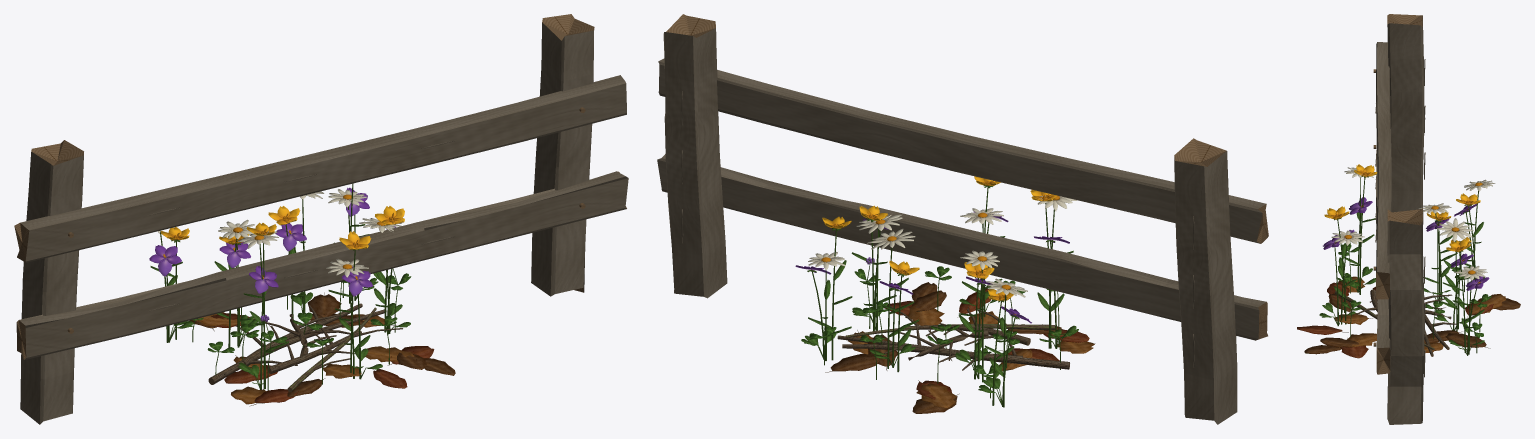
File: ground_detail_v002.glb
3 renders of one model, left to right at view 1: azimuth 30°, elevation 25°; view 2: azimuth 150°, elevation 25°; view 3: azimuth 270°, elevation 25°, orthographic. The views are drawn at different scales.
Visible parts, largest first — view 1: fence_short, ground_leaves, flower_violet, twig_cluster, flower_daisy, flower_buttercup, clover_patch; view 2: fence_short, ground_leaves, flower_daisy, flower_buttercup, twig_cluster, flower_violet, clover_patch; view 3: fence_short, ground_leaves, flower_daisy, flower_buttercup, flower_violet, clover_patch, twig_cluster.
Part boxes in pixels (<box>): fence_short: <box>14,14,628,424</box>; ground_leaves: <box>189,292,455,406</box>; flower_violet: <box>149,187,410,389</box>; twig_cluster: <box>208,303,402,392</box>; flower_daisy: <box>158,189,401,388</box>; flower_buttercup: <box>150,183,404,389</box>; clover_patch: <box>192,268,411,390</box>; fence_short: <box>657,14,1268,424</box>; ground_leaves: <box>825,282,1095,413</box>; flower_daisy: <box>808,195,1076,407</box>; flower_buttercup: <box>808,176,1064,405</box>; twig_cluster: <box>837,305,1069,370</box>; flower_violet: <box>795,211,1078,406</box>; clover_patch: <box>809,257,1072,398</box>; fence_short: <box>1373,14,1425,424</box>; ground_leaves: <box>1297,276,1520,358</box>; flower_daisy: <box>1331,167,1495,354</box>; flower_buttercup: <box>1324,164,1483,353</box>; flower_violet: <box>1319,197,1489,355</box>; clover_patch: <box>1337,229,1491,353</box>; twig_cluster: <box>1334,289,1456,356</box>.
Size of the model in its own units: 1.8 by 0.7508 by 0.7272.
Materials: 1 (1 with a texture image).
